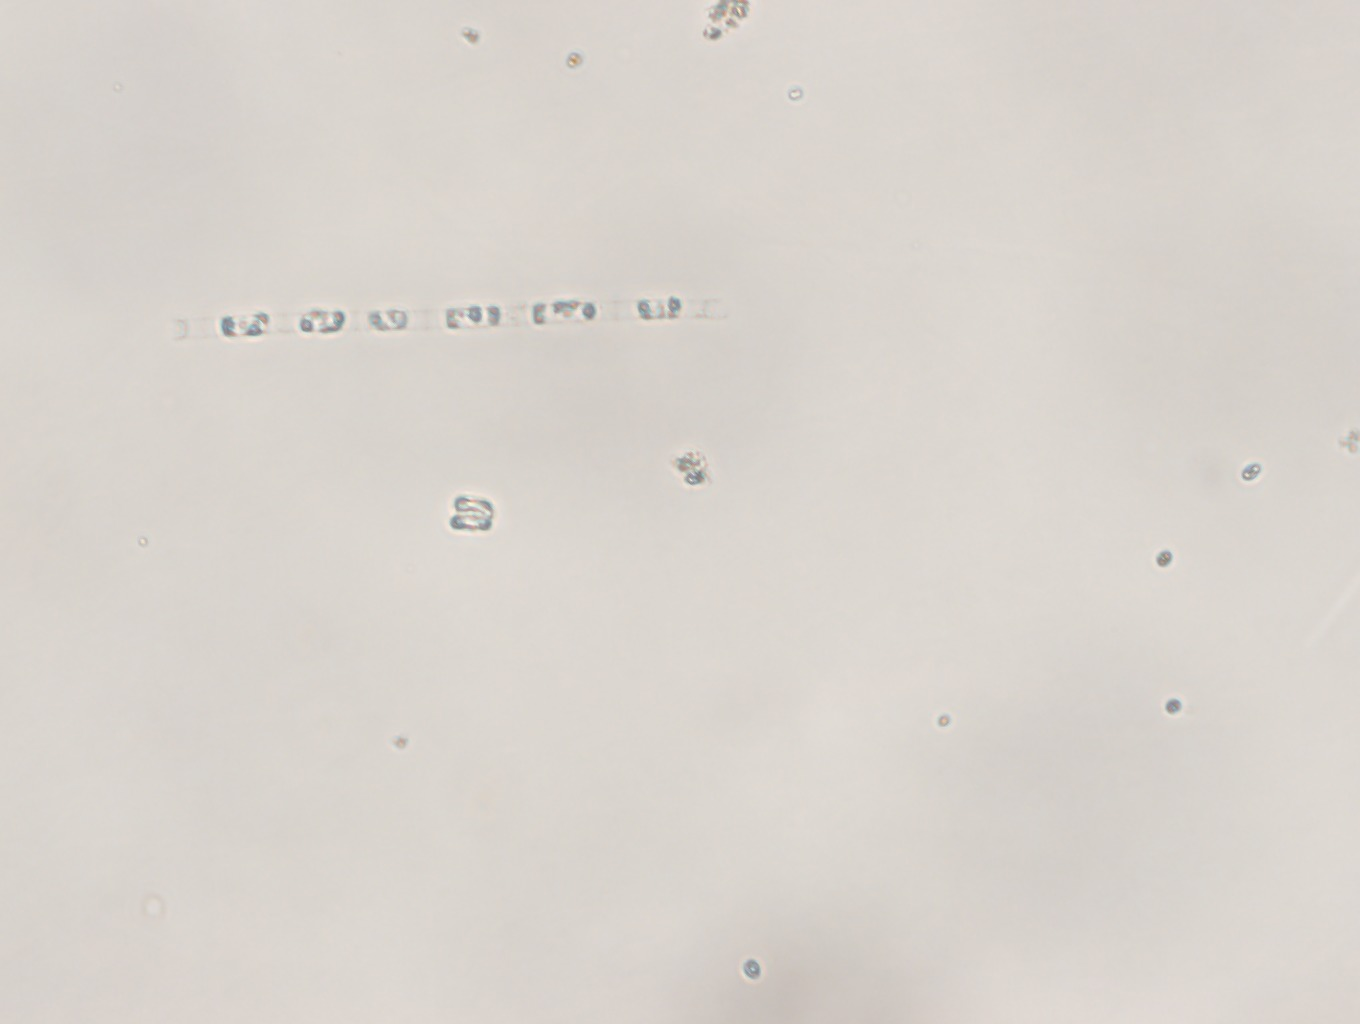skeletonema: (153, 286, 804, 358)
